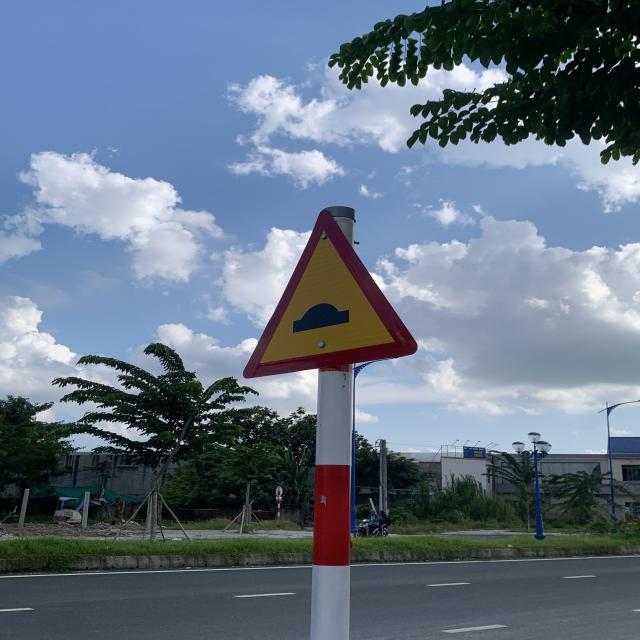Duong_Cong_Ben_Phai: (239, 210, 421, 377)
